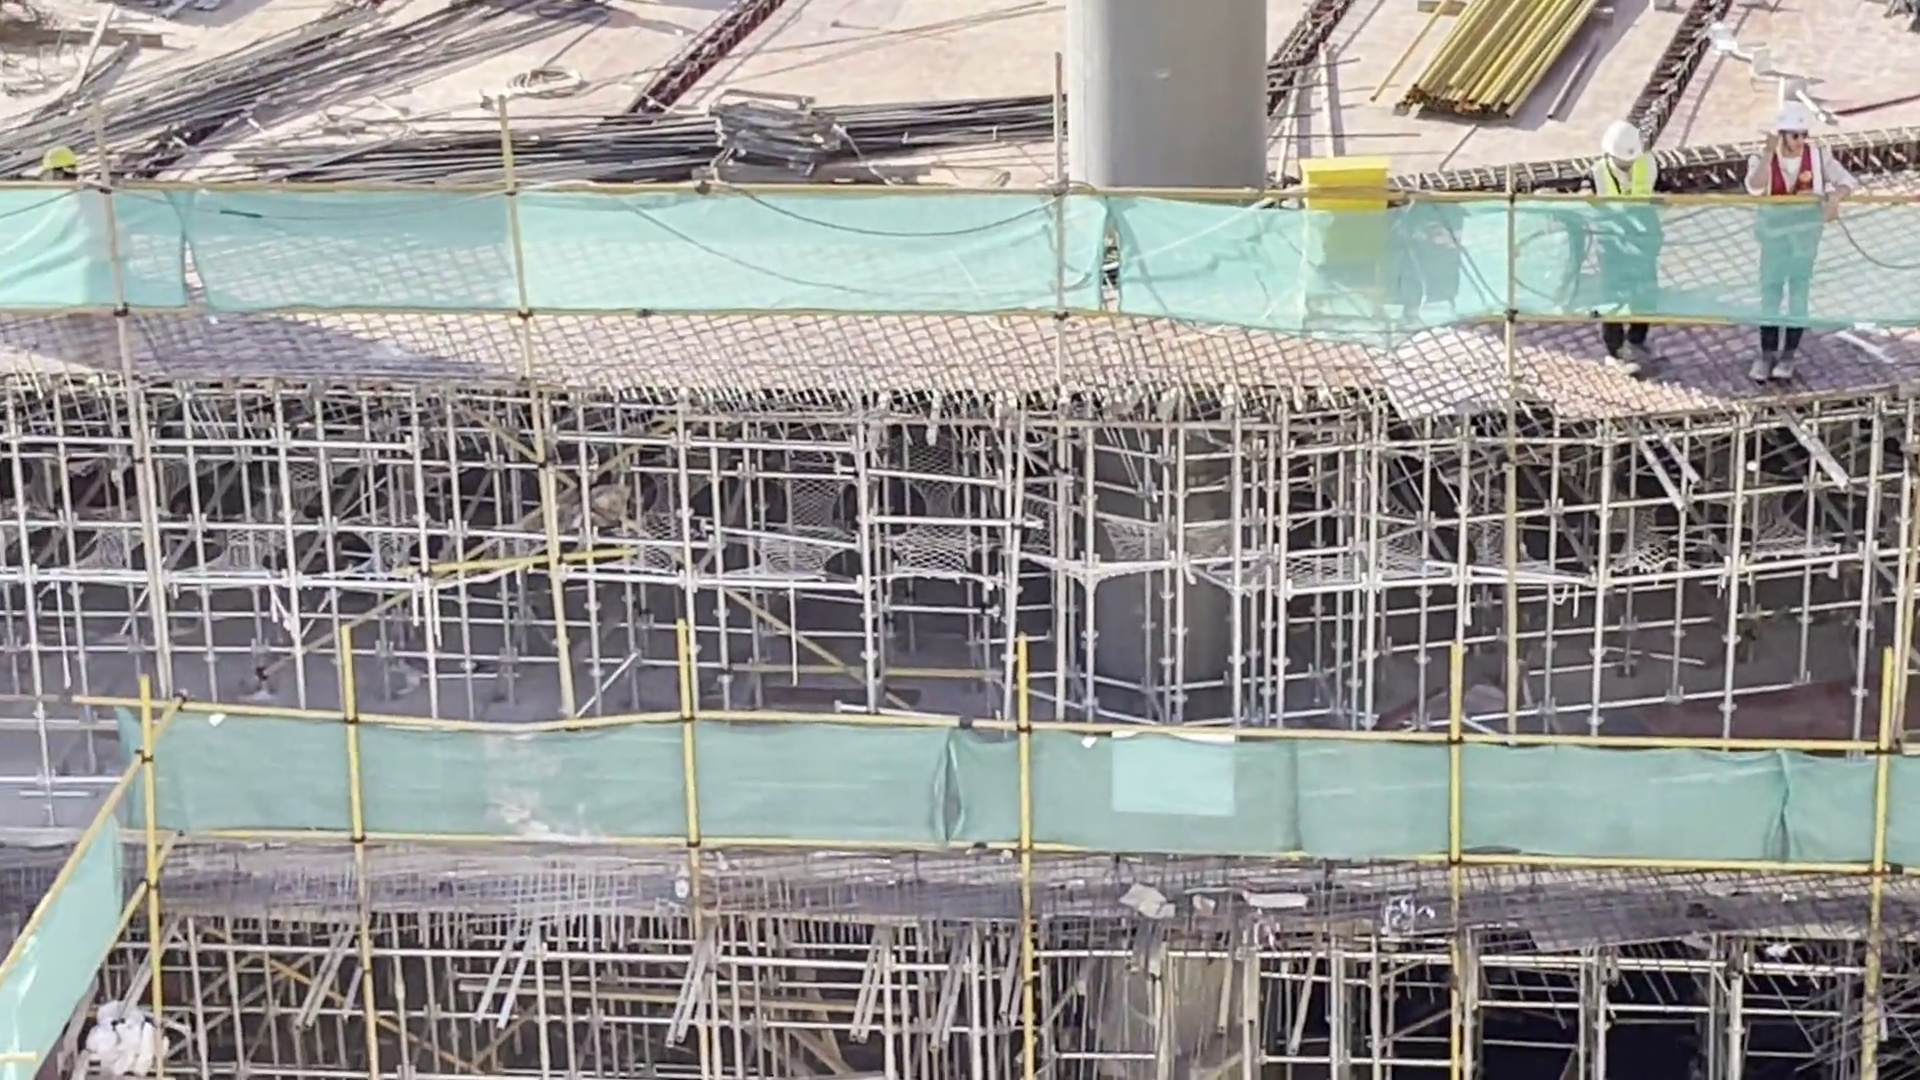ebox: (1293, 137, 1407, 338)
helmet: (1775, 95, 1821, 138), (1604, 117, 1638, 157)
person: (1566, 119, 1678, 374), (1740, 100, 1836, 383)
vest: (1597, 164, 1660, 235), (1769, 141, 1825, 217)
